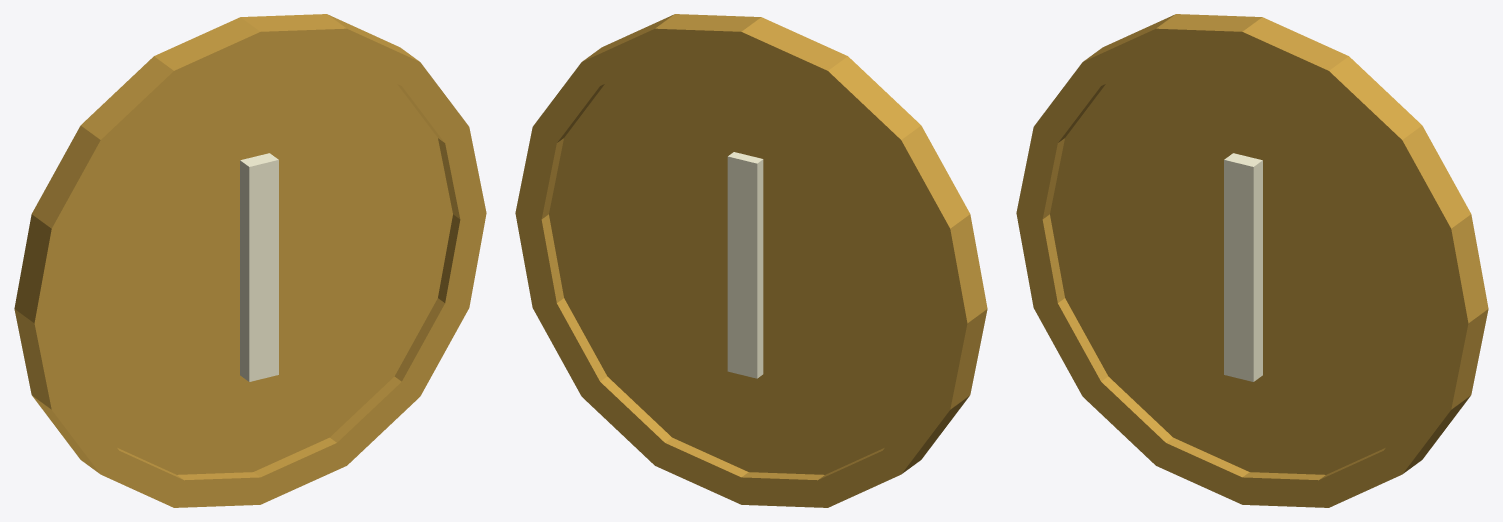
File: Coin1.dae
3 renders of one model, left to right at view 1: azimuth 30°, elevation 25°; view 2: azimuth 150°, elevation 25°; view 3: azimuth 330°, elevation 25°, orthographic.
Visible parts, largest first — view 1: Circle_002, Text_003; view 2: Circle_002, Text_021; view 3: Circle_002, Text_003.
Boxes of the visible parts, x1=… form: Circle_002: x1=14, y1=14, x2=486, y2=507; Text_003: x1=240, y1=153, x2=278, y2=381; Circle_002: x1=515, y1=14, x2=987, y2=507; Text_021: x1=727, y1=152, x2=763, y2=378; Circle_002: x1=1016, y1=14, x2=1488, y2=507; Text_003: x1=1224, y1=153, x2=1262, y2=381.
Bounding box in the file's own units: 0.9666 × 0.0877 × 0.9666.
